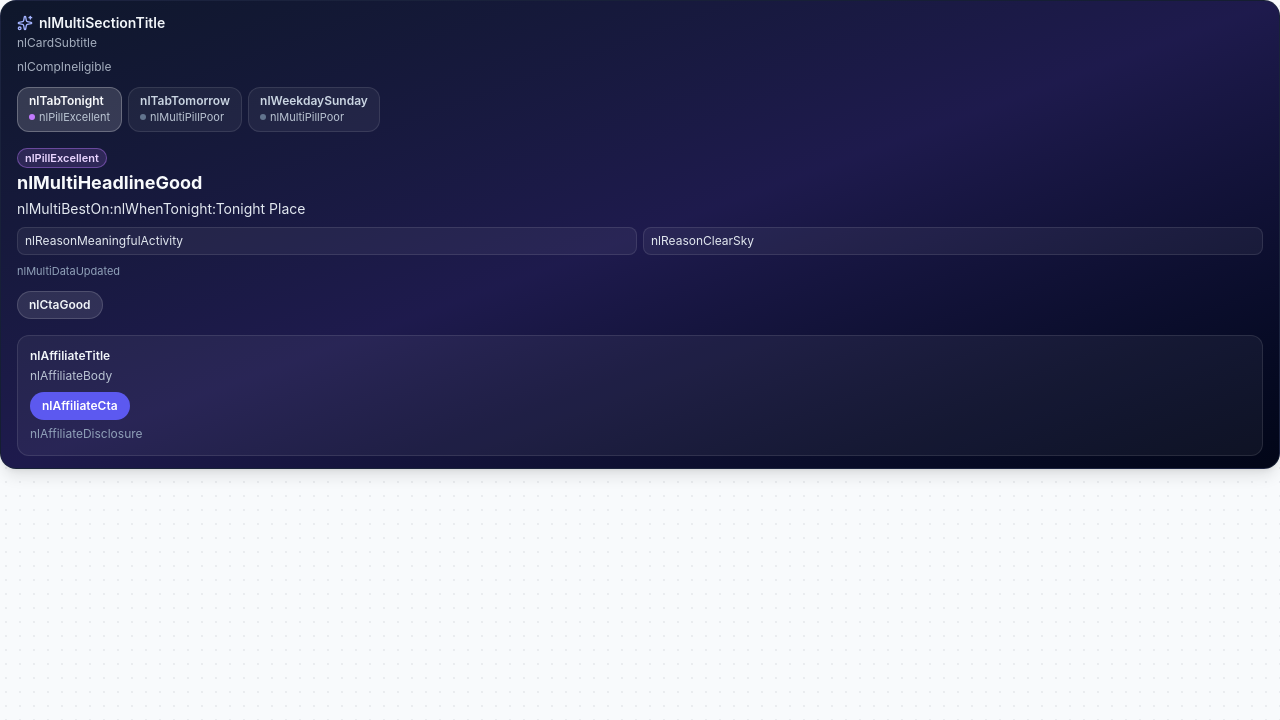
Test case: NorthernLightsThreeNight — tab selection updates content atomically › defaults to tonight, and switching tabs shows the newly selected night's own headline/band, never a stale one
The image size is (1280, 720).
Expected: the element with test id "nl3-result" is shown, [17,144,1263,319]
Expected: the text "nlMultiBestOn:nlWhenTonight:Tonight Place" is shown, [17,200,305,216]
Click the button "nlTabTomorrow nlMultiPillPoor" at (185, 109), box [128,87,242,132]
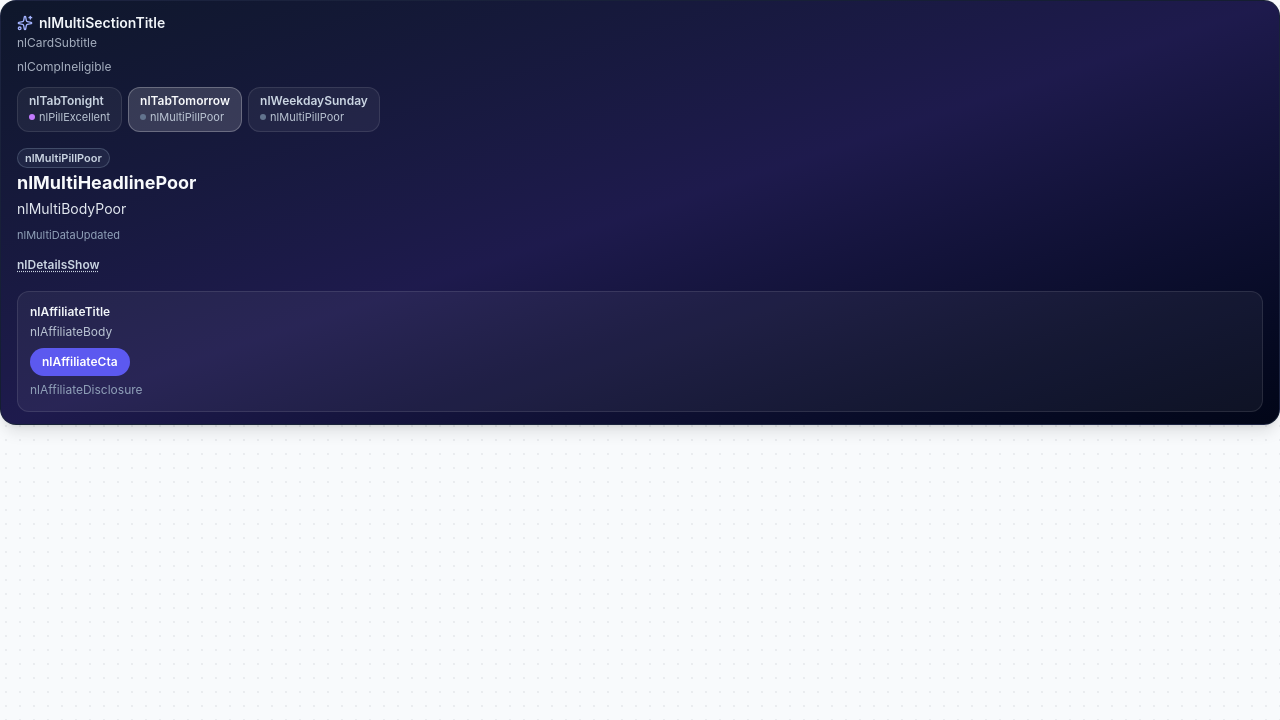
Result: the text "Tonight Place" is gone
Result: the element with test id "nl3-all-poor" is shown at [17,148,196,273]
